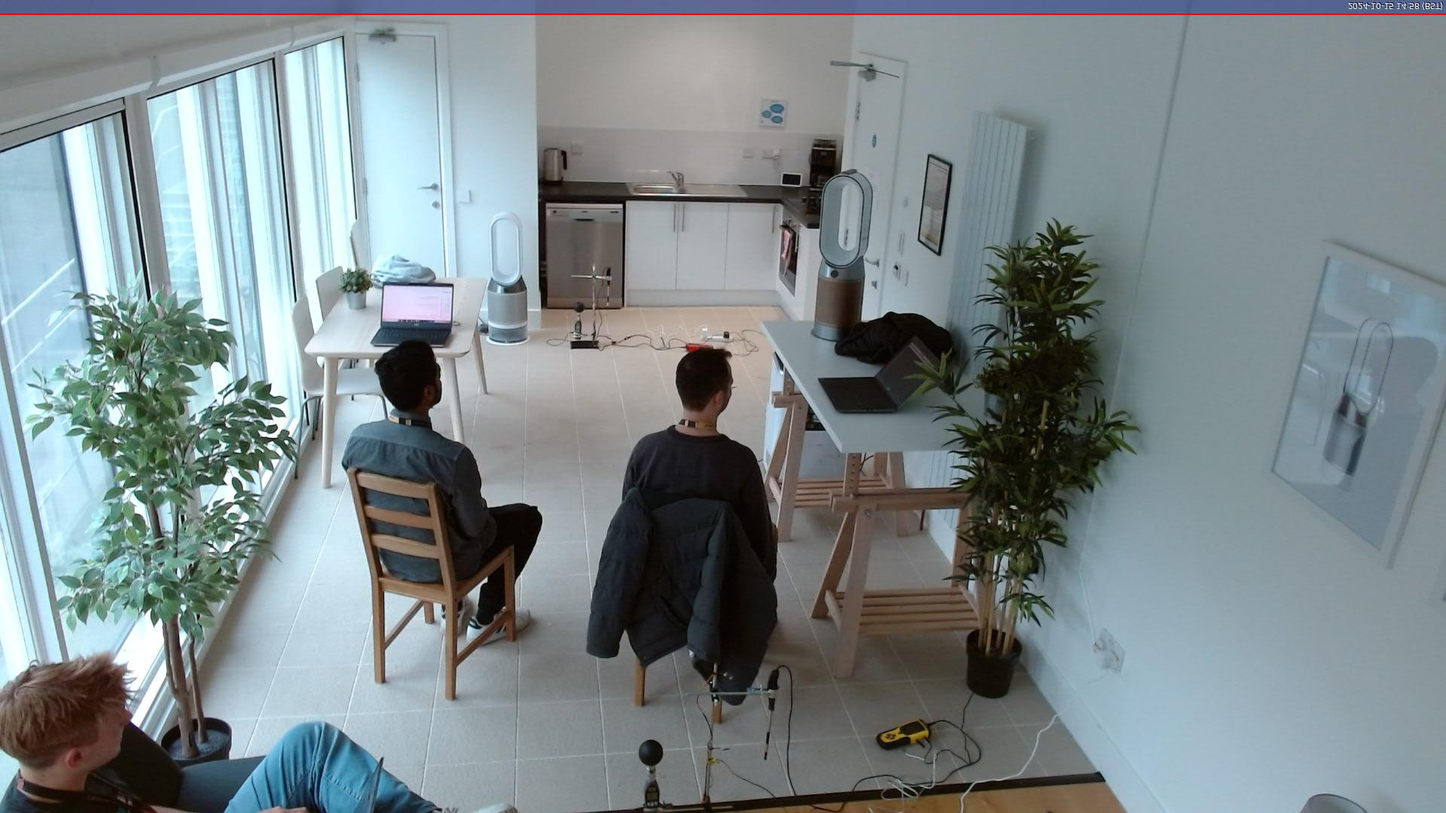long sleeve shirt: (341, 410, 493, 582)
short sleeve shirt: (1, 746, 160, 813)
sweater: (619, 427, 780, 585)
trousers: (214, 715, 451, 813), (432, 500, 544, 623)
